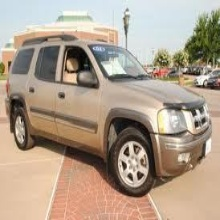no damage: (5, 39, 212, 196)
